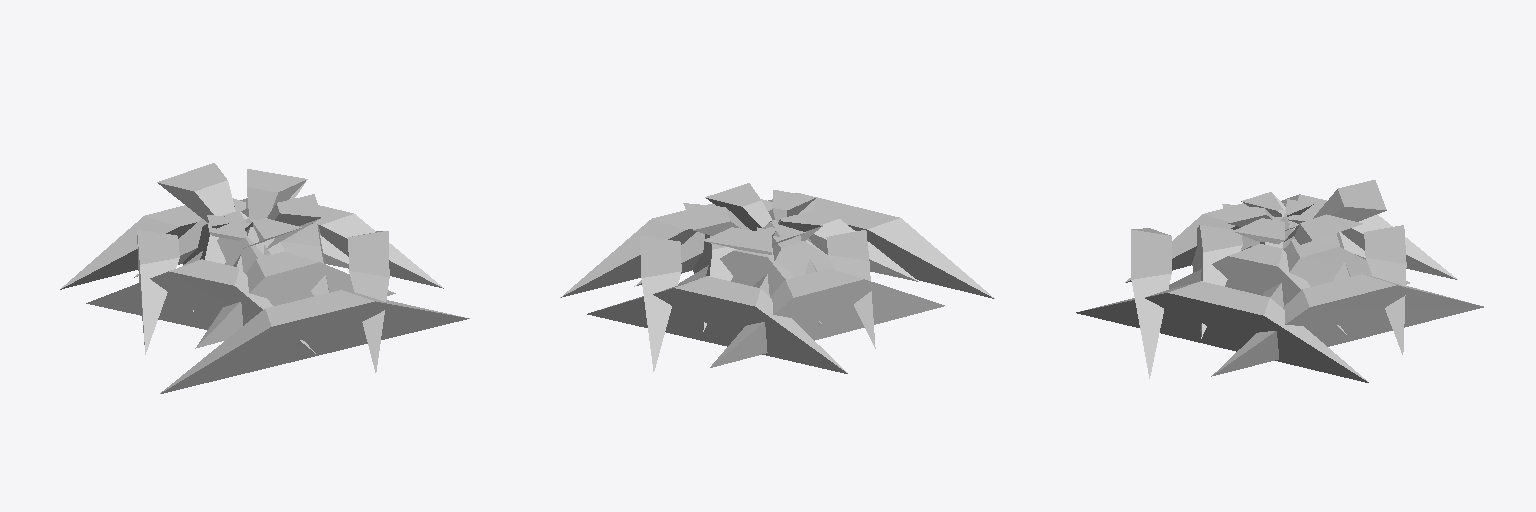
The model's file is TreeLeaves.obj.
The picture shows the model from 3 angles: view 1: azimuth 30°, elevation 25°; view 2: azimuth 150°, elevation 25°; view 3: azimuth 270°, elevation 25°; orthographic projection.
Parts seen in each view (by area): view 1: Cube; view 2: Cube; view 3: Cube.
Part boxes in pixels (bbox=[...]): Cube: bbox=[60, 163, 469, 393]; Cube: bbox=[560, 183, 994, 373]; Cube: bbox=[1076, 180, 1483, 382].
Bounding box in the file's own units: 13.79 × 4.16 × 15.09.